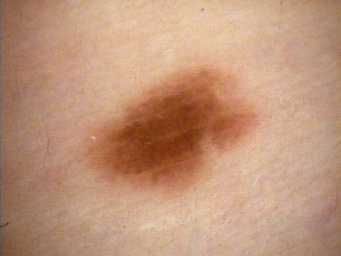melanoma: (83, 75, 257, 192)
